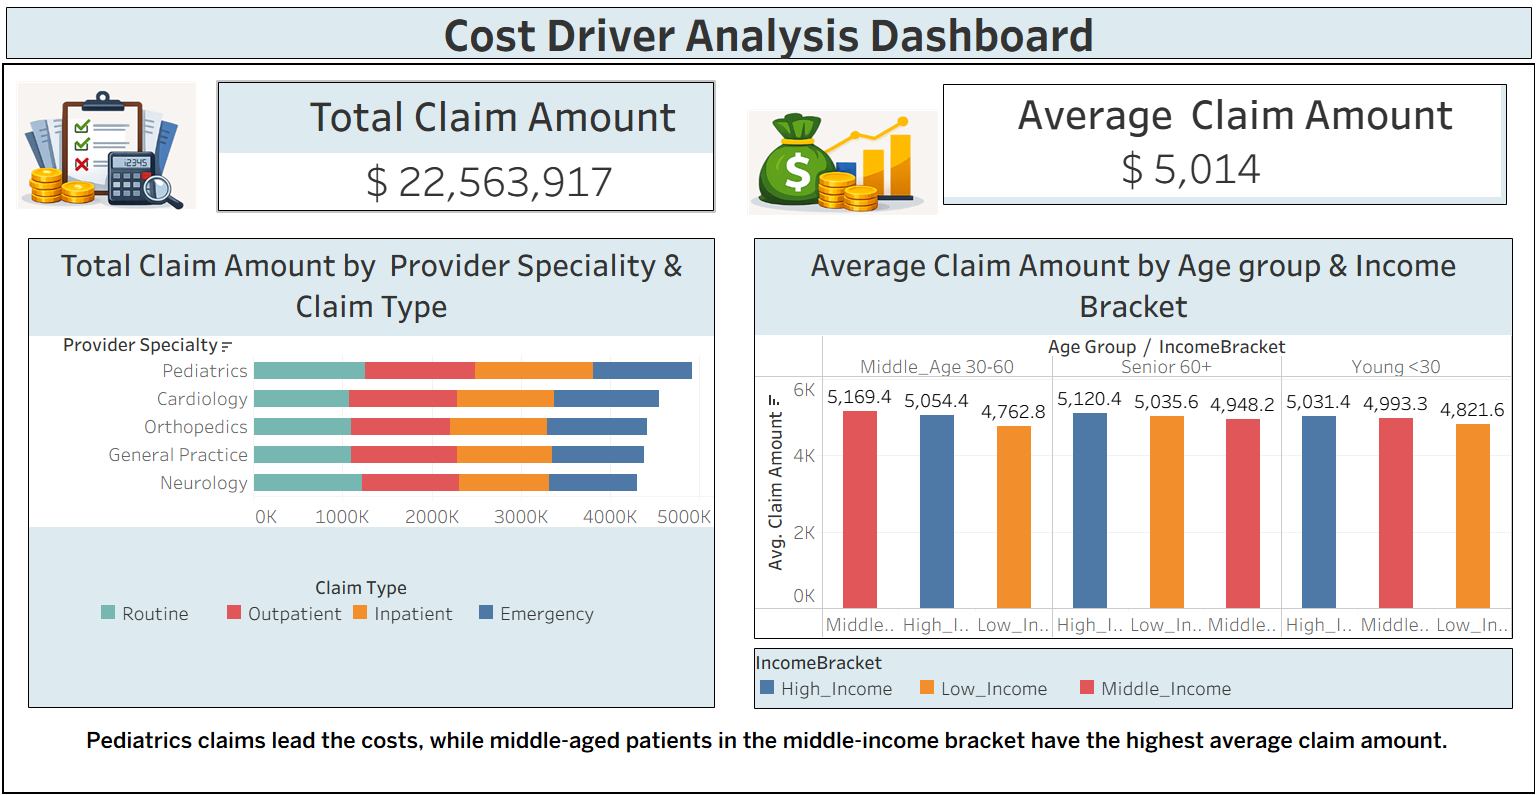

This screenshot's page, from the dashboard's own definition file:
{"tool":"tableau","page":{"name":"Dashboard 1: Cost Driver Analysis","canvas":[1000,1000],"units":"permille","ordinal":0},"visuals":[{"type":"title","box":[5.2,9.9,989.7,74.4]},{"type":"image","param":"C:/Users/user/Pictures/total claims.png","box":[14.2,106.7,129.2,160.1]},{"type":"worksheet","title":"KPI - Total Claim Amount","mark":"Automatic","box":[144.7,107.9,319.8,160.1]},{"type":"worksheet","title":"KPI - Average Claim Amount","mark":"Automatic","box":[612.6,110.4,364.2,150.1]},{"type":"image","param":"C:/Users/user/Pictures/Avg Claim Amount.png","box":[485.8,141.4,124,148.9]},{"type":"worksheet","title":"Q1: Total Claim Amount by Provider Speciality & Claim Type","mark":"Automatic","rows":["ProviderSpecialty"],"cols":["ClaimAmount"],"box":[22,301.5,443.2,581.9]},{"type":"worksheet","title":"Q2: Age groups and Income Brackets","mark":"Automatic","rows":["ClaimAmount"],"cols":["Calculation_1241404985065472","Calculation_1241404987092993"],"box":[490.3,301.5,489.7,497.5]},{"type":"legend","title":"Q1: Total Claim Amount by Provider Speciality & Claim Type","param":"[federated.0q41bvh03h9eb41fq89sx0d0920t].[none:ClaimType:nk]","box":[65.8,717.5,341.9,123.9]},{"type":"legend","title":"Q2: Age groups and Income Brackets","param":"[federated.0q41bvh03h9eb41fq89sx0d0920t].[none:Calculation_1241404987092993:nk]","box":[490.3,808.9,489.7,75.7]},{"type":"text","box":[56.9,898.3,915.3,52.1]}]}

Visuals, with their boxes on the dashboard's canvas, which has no fixed pixel size, in thousandths of its width and height (x1, y1, x2, y2). These are canvas units, not pixel positions in the 1540x795 screenshot, which may show the page scaled, cropped or inside an application window:
title: <box>5,10,995,84</box>
image: <box>14,107,143,267</box>
"KPI - Total Claim Amount" worksheet: <box>145,108,464,268</box>
"KPI - Average Claim Amount" worksheet: <box>613,110,977,260</box>
image: <box>486,141,610,290</box>
"Q1: Total Claim Amount by Provider Speciality & Claim Type" worksheet: <box>22,302,465,883</box>
"Q2: Age groups and Income Brackets" worksheet: <box>490,302,980,799</box>
"Q1: Total Claim Amount by Provider Speciality & Claim Type" legend: <box>66,718,408,841</box>
"Q2: Age groups and Income Brackets" legend: <box>490,809,980,885</box>
text: <box>57,898,972,950</box>
